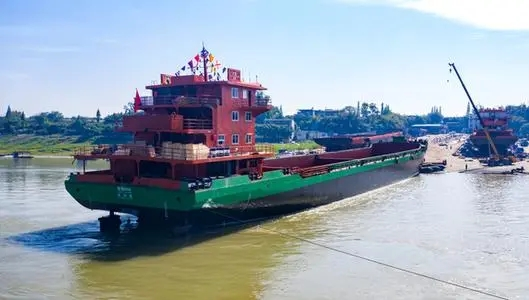Cargoship: (54, 39, 429, 229)
